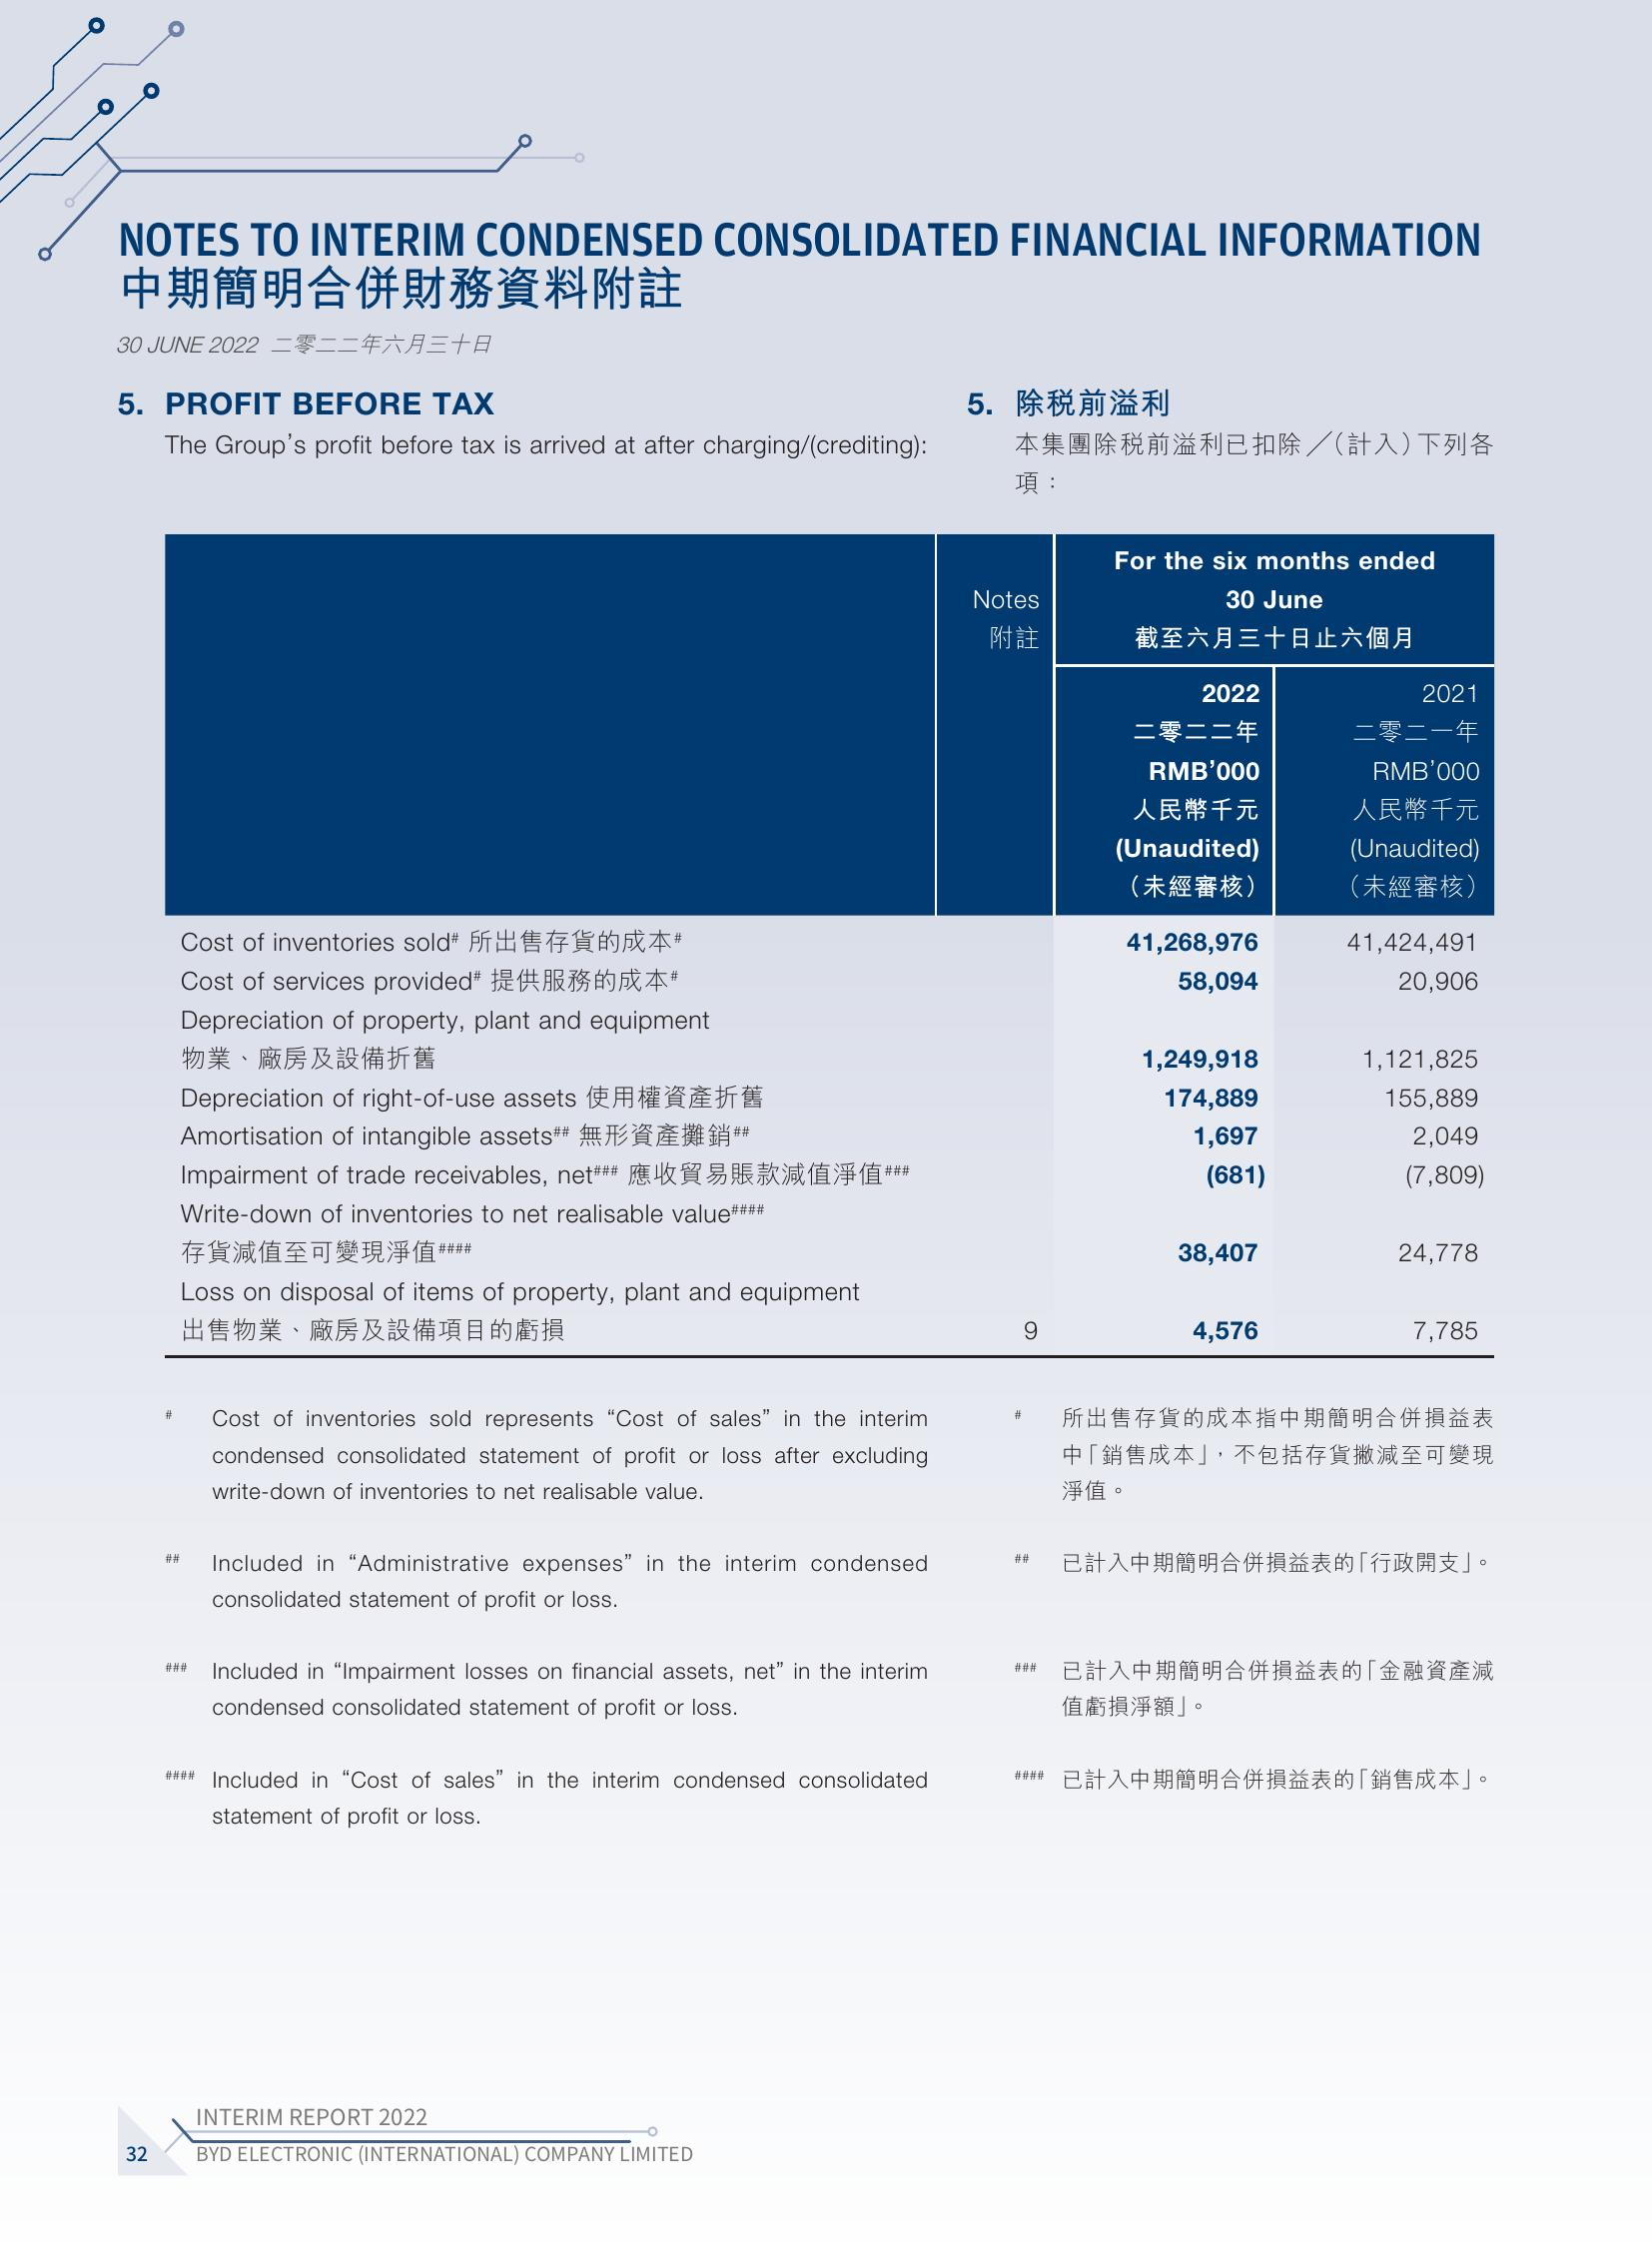Footer: (0, 2077, 1652, 2242)
Header: (0, 0, 1652, 205)
Table: (127, 498, 1521, 1363)
